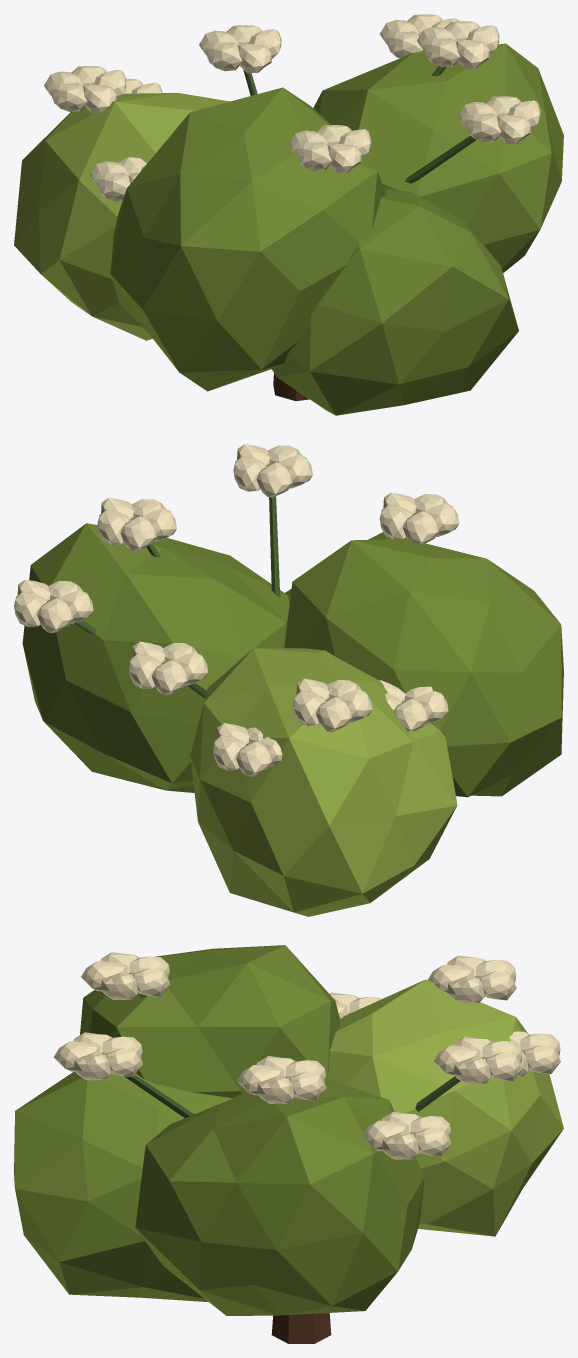
File: 89_flowering_shrub.fbx
The picture shows the model from 3 angles, top to bottom: view 1: azimuth 30°, elevation 25°; view 2: azimuth 150°, elevation 25°; view 3: azimuth 270°, elevation 25°; orthographic projection. The views are drawn at different scales.
Parts seen in each view (by area): view 1: 89_flowering_shrub; view 2: 89_flowering_shrub; view 3: 89_flowering_shrub.
Part boxes in pixels (left/top/right/bottom): 89_flowering_shrub: left=14, top=14, right=563, bottom=415; 89_flowering_shrub: left=14, top=444, right=563, bottom=916; 89_flowering_shrub: left=14, top=945, right=563, bottom=1343.
Size of the model in its own units: 1.39 by 0.9408 by 1.35.
1 material, 1 textured.
